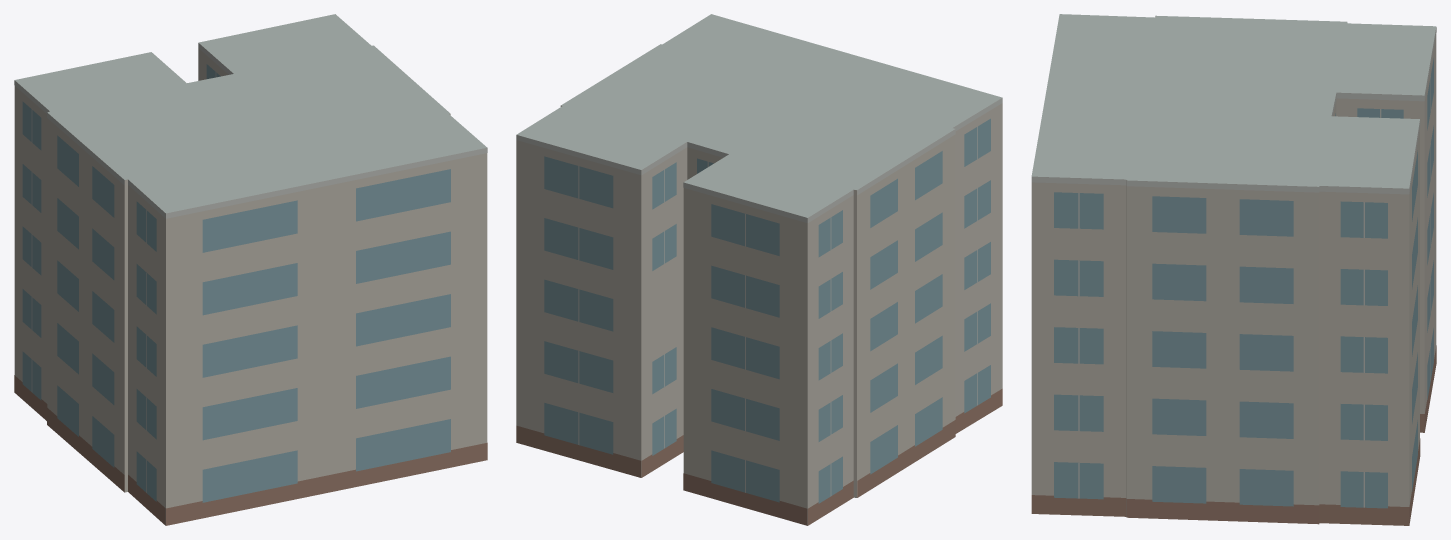
File: survey-upis-32856482.glb
3 views of the same model, side by side, from view 1: azimuth 30°, elevation 25°; view 2: azimuth 150°, elevation 25°; view 3: azimuth 270°, elevation 25° (orthographic). The views are drawn at different scales.
Parts seen in each view (by area): view 1: survey-upis-32856482.tmp; view 2: survey-upis-32856482.tmp; view 3: survey-upis-32856482.tmp.
Boxes of the visible parts, left/top/right/bottom form: survey-upis-32856482.tmp: left=14, top=14, right=487, bottom=525; survey-upis-32856482.tmp: left=516, top=14, right=1002, bottom=525; survey-upis-32856482.tmp: left=1031, top=14, right=1436, bottom=525.
Bounding box in the file's own units: 15.78 × 14.2 × 15.46.
